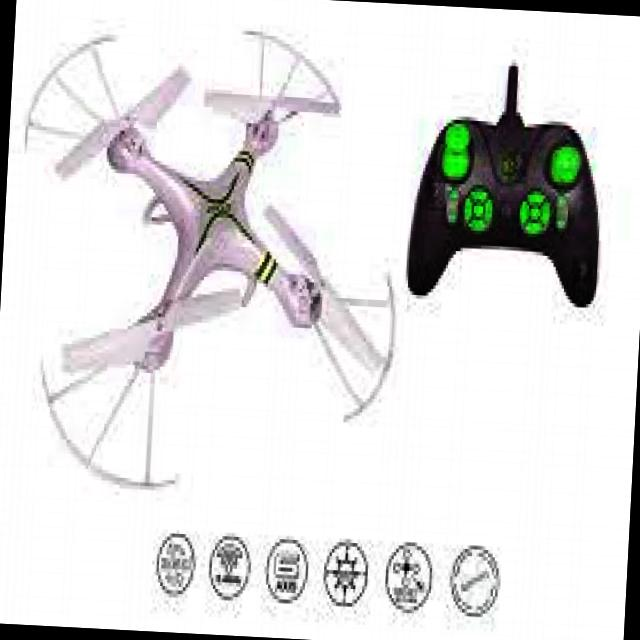drone: (0, 3, 420, 516)
